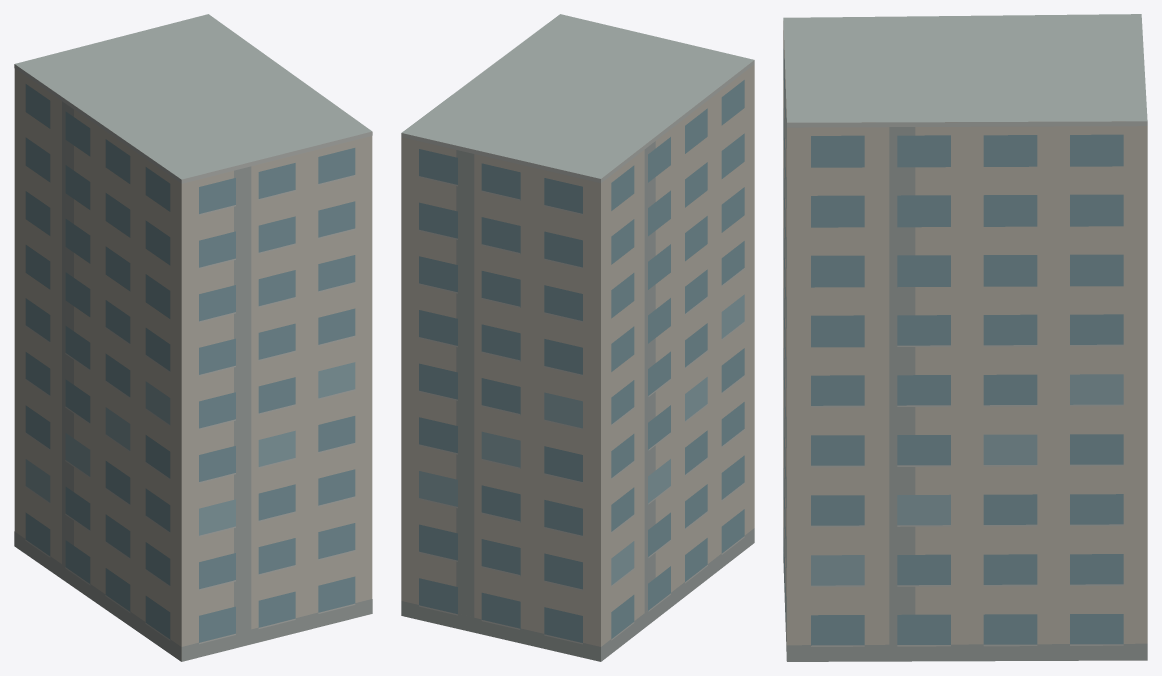
Rendered from survey-upis-32852603.glb.
3 views of the same model, side by side, from view 1: azimuth 30°, elevation 25°; view 2: azimuth 150°, elevation 25°; view 3: azimuth 270°, elevation 25° (orthographic). The views are drawn at different scales.
Parts seen in each view (by area): view 1: survey-upis-32852603.tmp; view 2: survey-upis-32852603.tmp; view 3: survey-upis-32852603.tmp.
Boxes of the visible parts, x1,y1,x2,y2 form: survey-upis-32852603.tmp: (14,14,372,661); survey-upis-32852603.tmp: (401,14,754,661); survey-upis-32852603.tmp: (783,14,1147,661).
Bounding box in the file's own units: 11.89 × 27.45 × 16.82.
